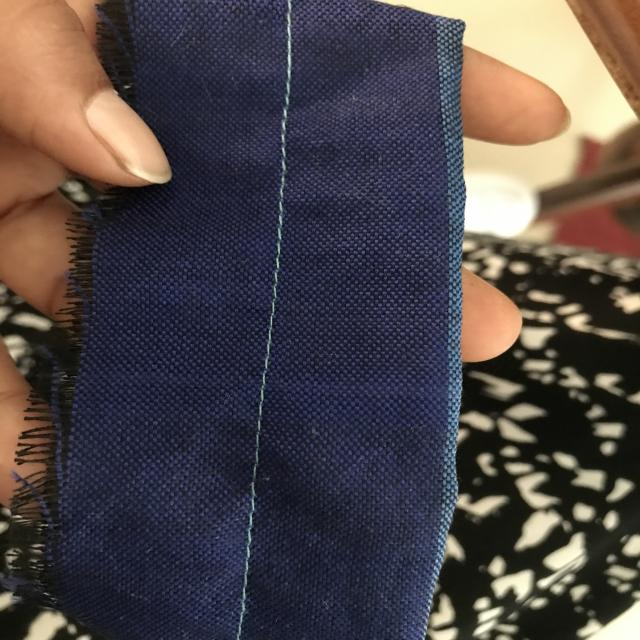good: (269, 176, 301, 286)
